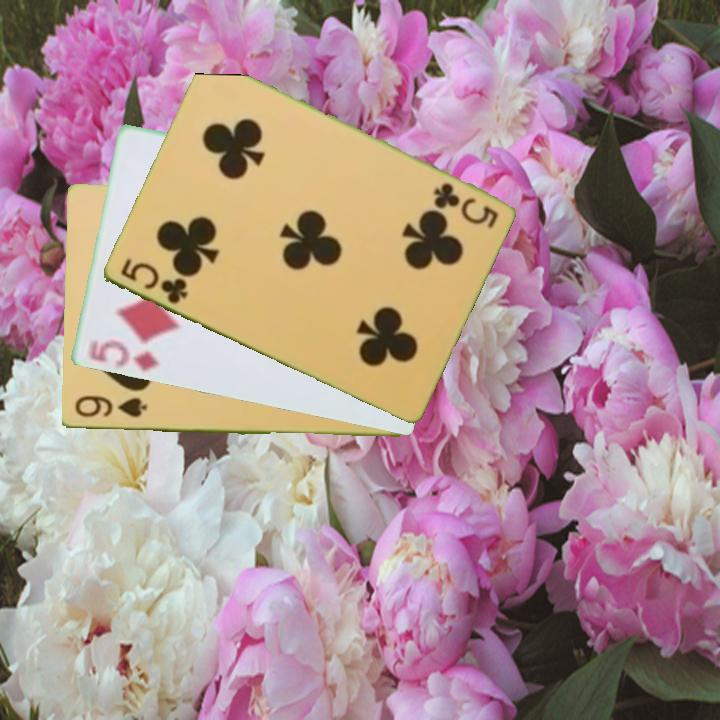5c: (116, 255, 191, 308), (429, 179, 501, 231)
5d: (83, 336, 161, 374)
9s: (71, 393, 150, 421)
